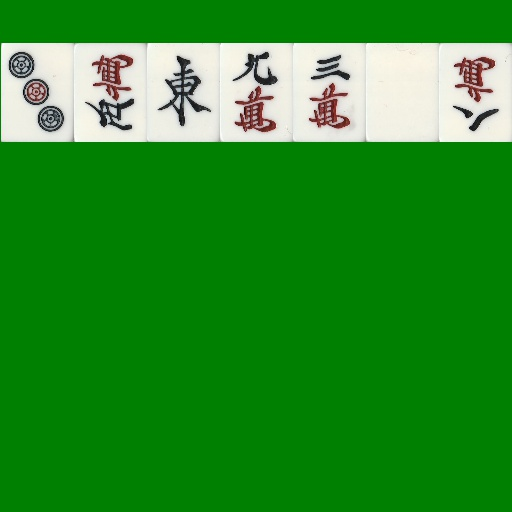3m: (293, 43, 366, 142)
3p: (1, 43, 74, 142)
5m: (74, 43, 147, 142)
8m: (439, 43, 512, 142)
9m: (220, 43, 293, 142)
east: (147, 43, 220, 142)
white: (366, 43, 439, 142)
